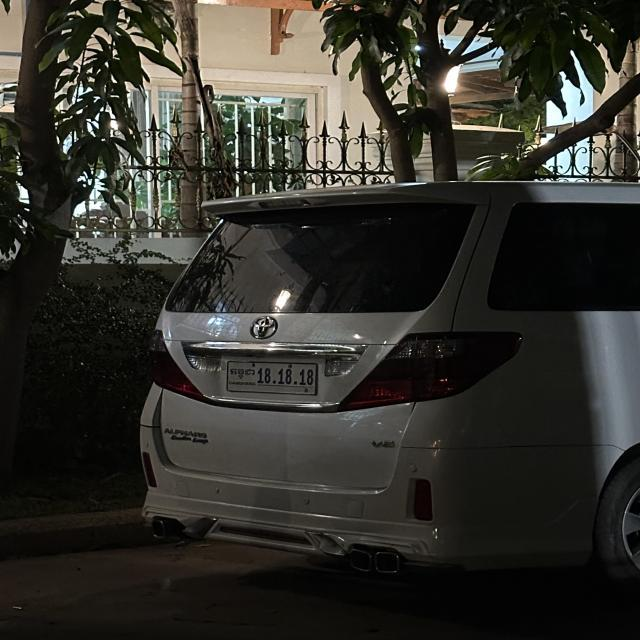Cambodia: (229, 367, 256, 381)
